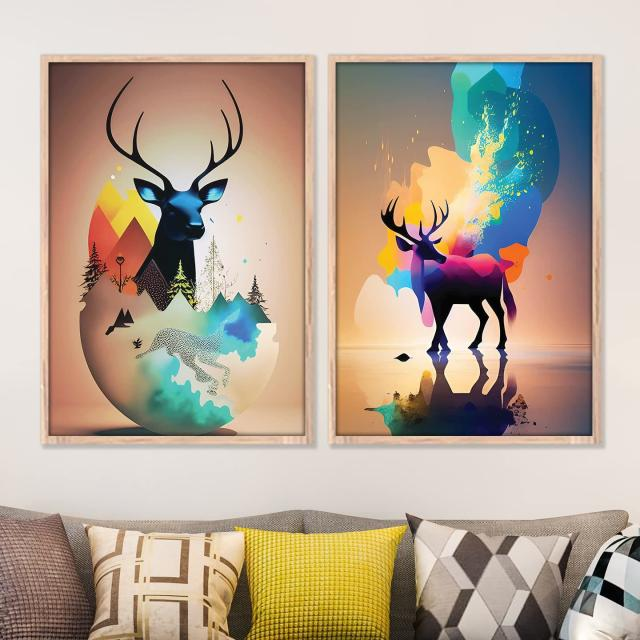painting: (327, 51, 603, 444), (39, 52, 314, 446)
